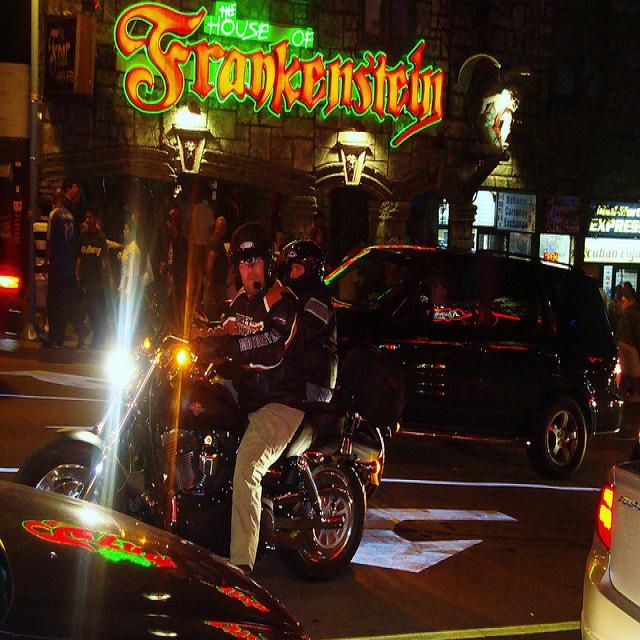Motorbike: (64, 344, 420, 573)
